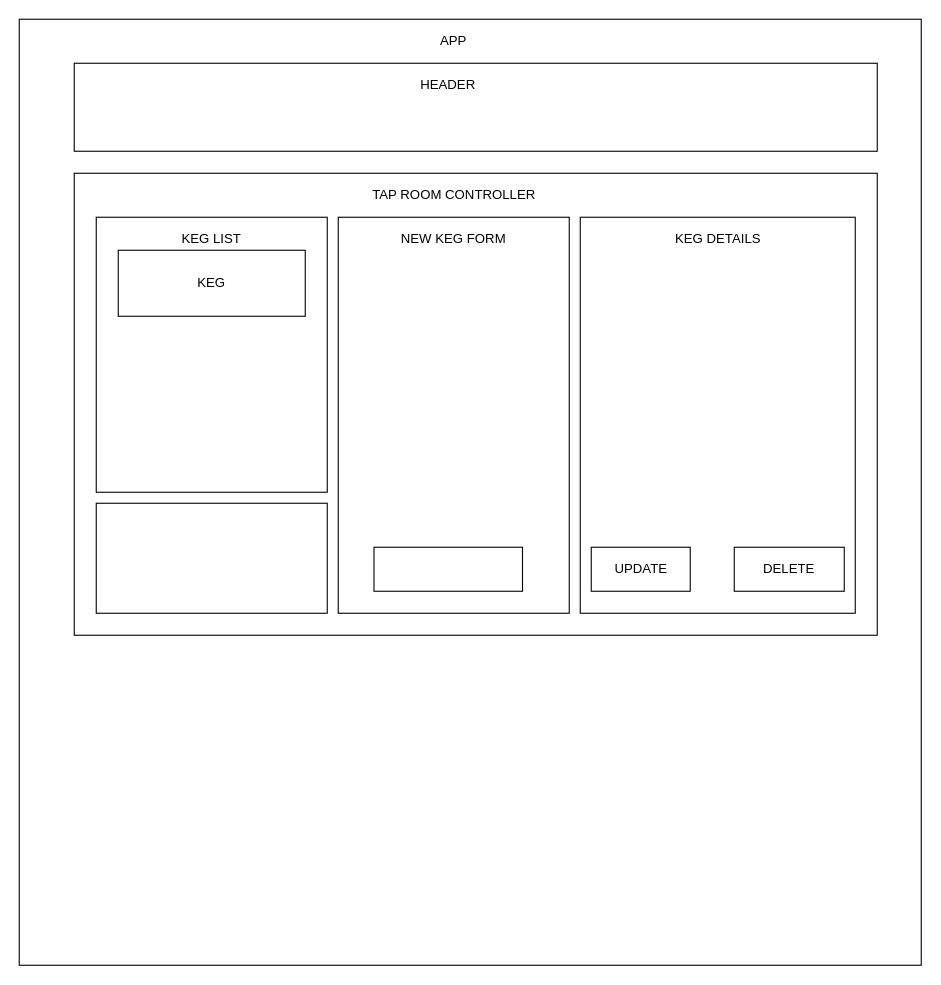
Image size: 941x985. Some labels were removed from this diagram. Here are the shapes that lost their labels. From the top down, the centre of each, then its label:
At point 211,557: "ADD KEG".
At point 447,568: "SUBMIT".
